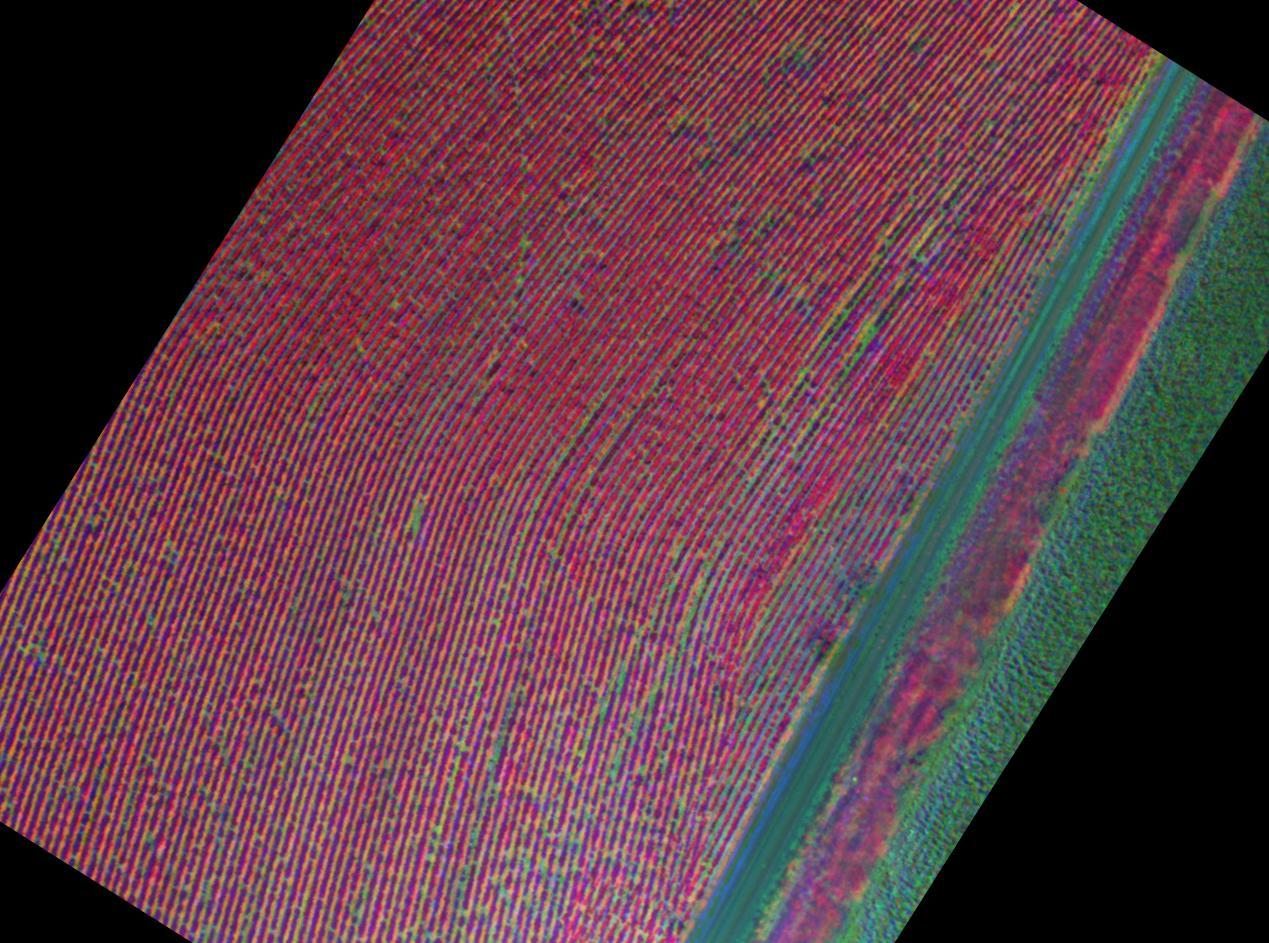dc: (688, 608, 693, 612), (611, 771, 615, 776), (463, 911, 468, 915), (541, 860, 544, 866), (489, 782, 493, 786), (680, 799, 684, 803), (507, 853, 511, 856), (921, 256, 924, 259), (746, 719, 749, 722)
